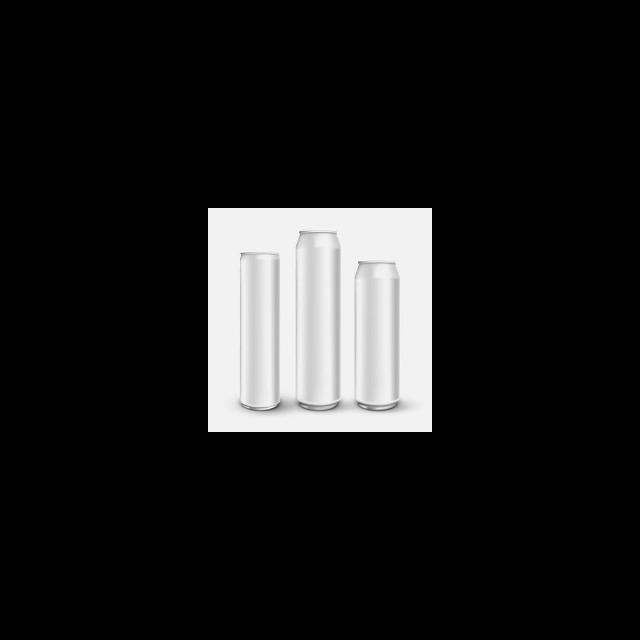metal: (288, 221, 348, 417), (350, 253, 408, 415), (236, 236, 284, 418)
